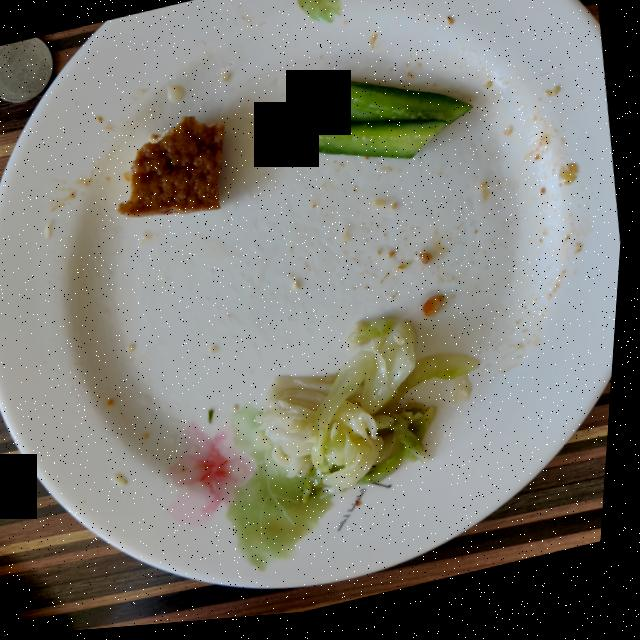cabbage: (262, 325, 485, 507)
coin: (0, 38, 54, 103)
cucumber: (270, 83, 474, 166)
egg tofu: (121, 120, 227, 220)
